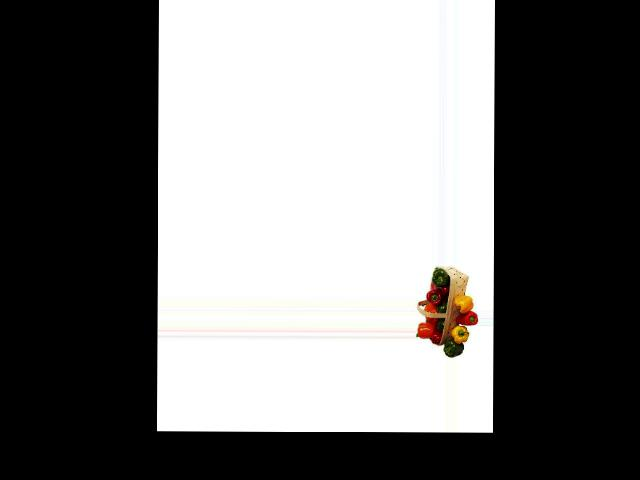bell_pepper: (431, 268, 448, 288)
